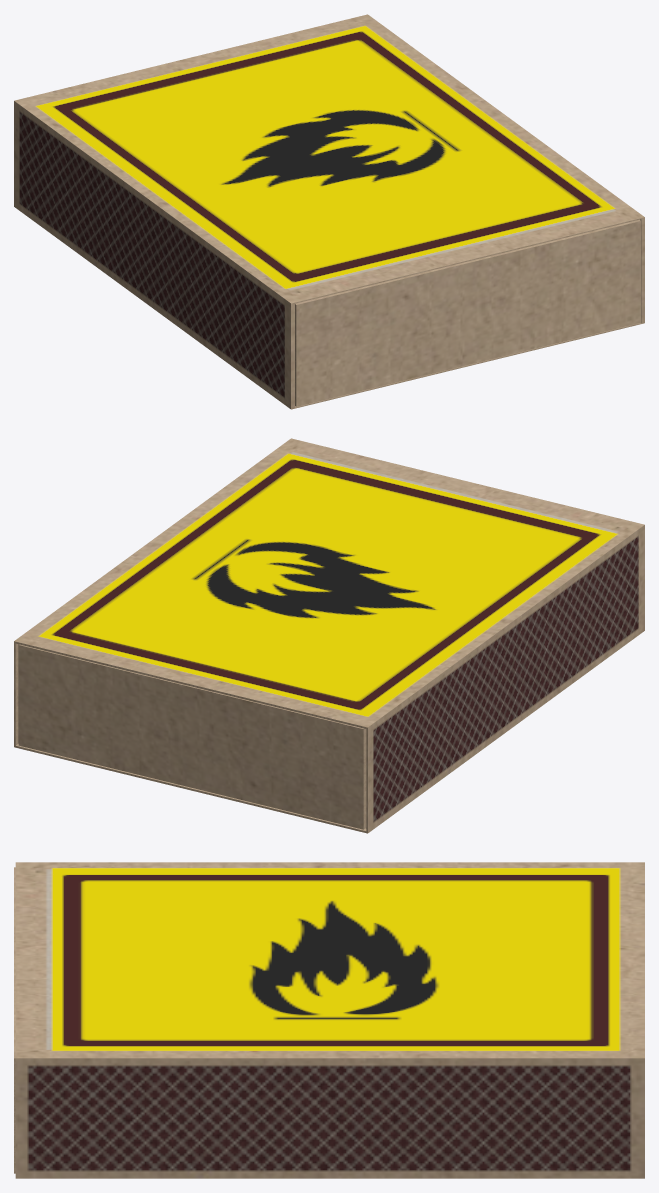
File: matches.fbx
The picture shows the model from 3 angles, top to bottom: view 1: azimuth 30°, elevation 25°; view 2: azimuth 150°, elevation 25°; view 3: azimuth 270°, elevation 25°; orthographic projection. The views are drawn at different scales.
Visible parts, largest first — view 1: firebox_geo1; view 2: firebox_geo1; view 3: firebox_geo1.
Part boxes in pixels (bbox=[...]): firebox_geo1: bbox=[14, 14, 644, 409]; firebox_geo1: bbox=[14, 438, 644, 833]; firebox_geo1: bbox=[14, 862, 644, 1178].
Bounding box in the file's own units: 6.28 × 1.8 × 8.55.
1 material, 1 textured.
